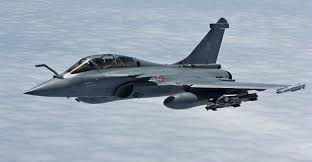fighter: (20, 13, 309, 112)
